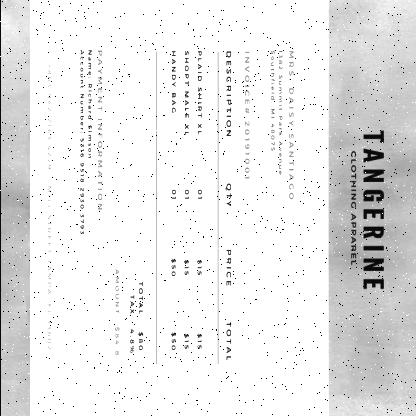Paragraph: (348, 127, 386, 293), (76, 46, 106, 238), (267, 46, 297, 204), (42, 61, 56, 355), (110, 265, 146, 358), (239, 48, 254, 183)
Table: (156, 47, 238, 365)
